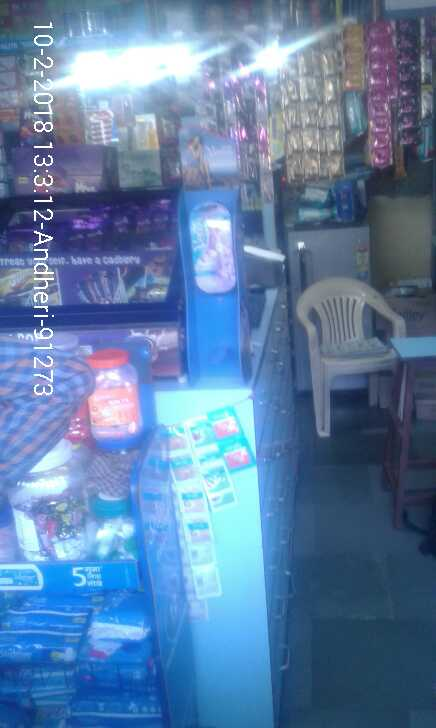beauty: (186, 203, 238, 299)
